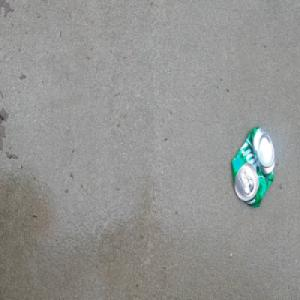SodaCan: (229, 123, 277, 210)
